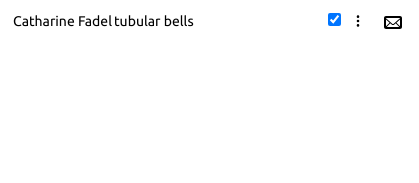
Test: <AppendedContactRow /> › options btn is in the document and renders menu on click
The image size is (419, 183).
Click the button with test id "options-btn". click: {"x": 358, "y": 21}
box: [347, 10, 369, 32]
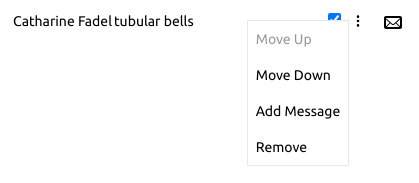
expect the element with test id "options-menu" is shown: met, box [247, 20, 349, 166]
